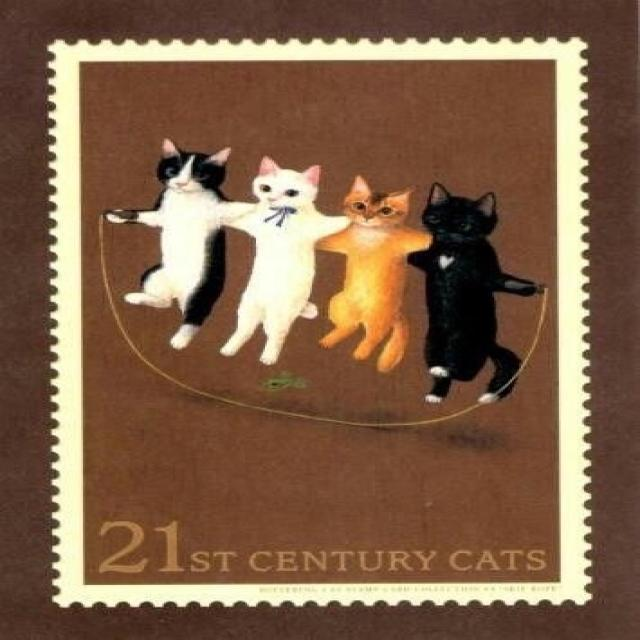Cats: (411, 178, 554, 408), (120, 132, 244, 352), (220, 154, 332, 368), (312, 161, 424, 374)
